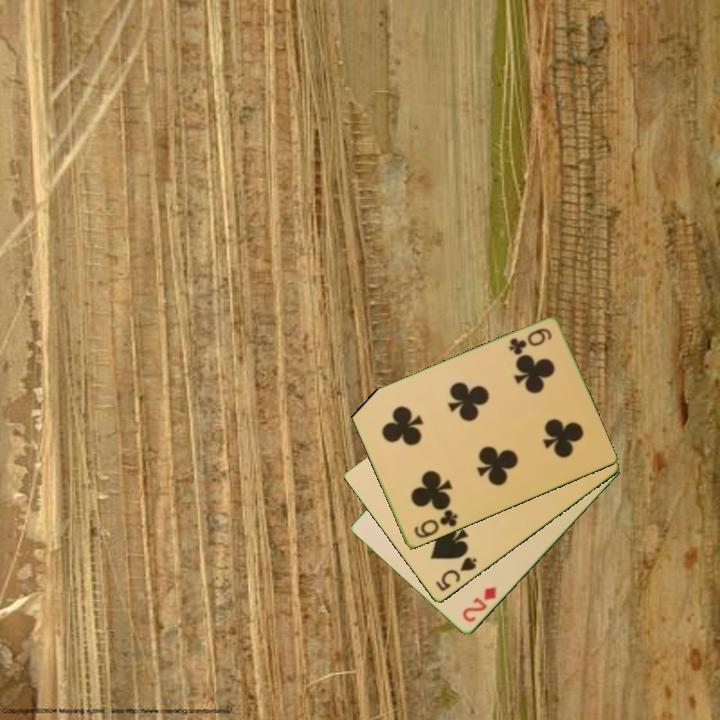2d: (459, 584, 499, 626)
5s: (432, 554, 480, 595)
6c: (410, 506, 460, 542), (505, 325, 555, 358)
